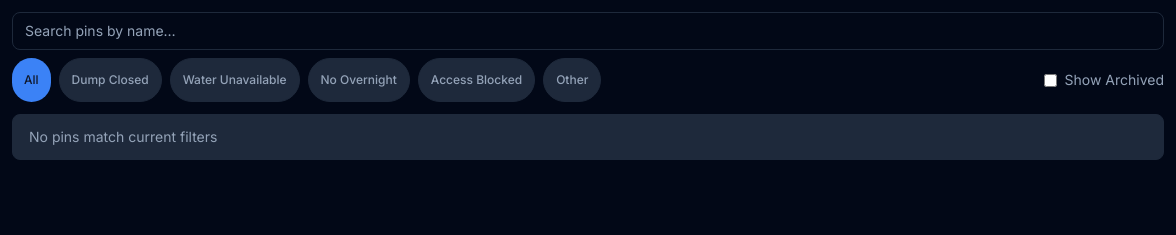
Test case: FlaggedPinList › "Archived" pill renders for archived pins
Expected: the text "No pins match current filters" is shown, [12,114,1164,160]
Note: Toggle show archived first
Click the checkbox labelled "Show Archived" at (1050, 80), box [1044,74,1056,86]
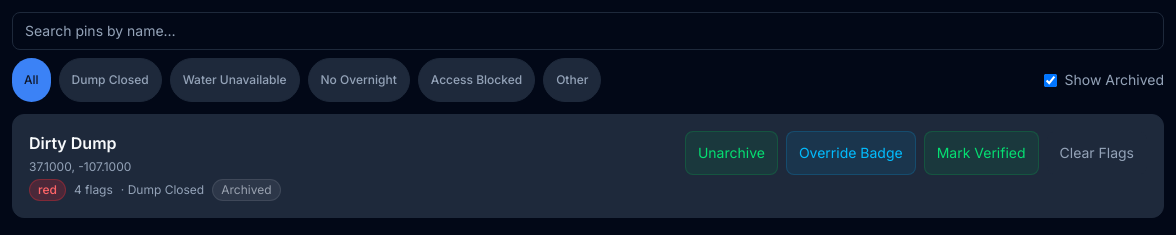
Now the text "Dirty Dump" is shown, box [29,133,117,153]
Now the text "Archived" is shown, box [212,179,280,201]
